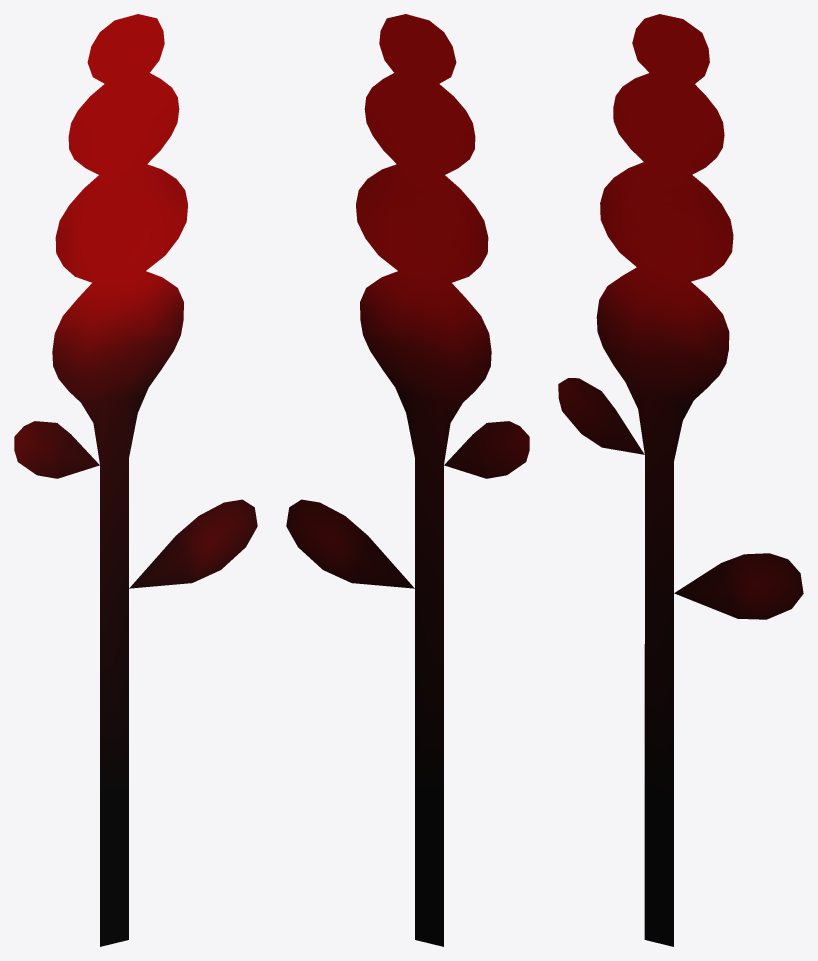
File: SM_Lavender_02_LOD0.fbx
3 renders of one model, left to right at view 1: azimuth 30°, elevation 25°; view 2: azimuth 150°, elevation 25°; view 3: azimuth 330°, elevation 25°, orthographic.
Visible parts, largest first — view 1: SM_Lavender_02_LOD0; view 2: SM_Lavender_02_LOD0; view 3: SM_Lavender_02_LOD0.
Boxes of the visible parts, x1,y1,x2,y2 form: SM_Lavender_02_LOD0: (14,14,257,946); SM_Lavender_02_LOD0: (286,14,529,946); SM_Lavender_02_LOD0: (558,14,803,946).
Size of the model in its own units: 72.61 by 4.14e-05 by 263.
